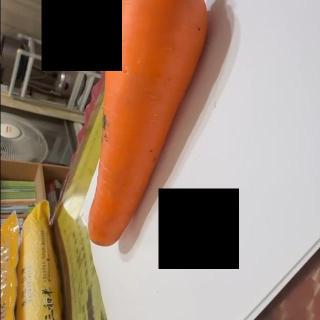carrot: (86, 0, 210, 248)
